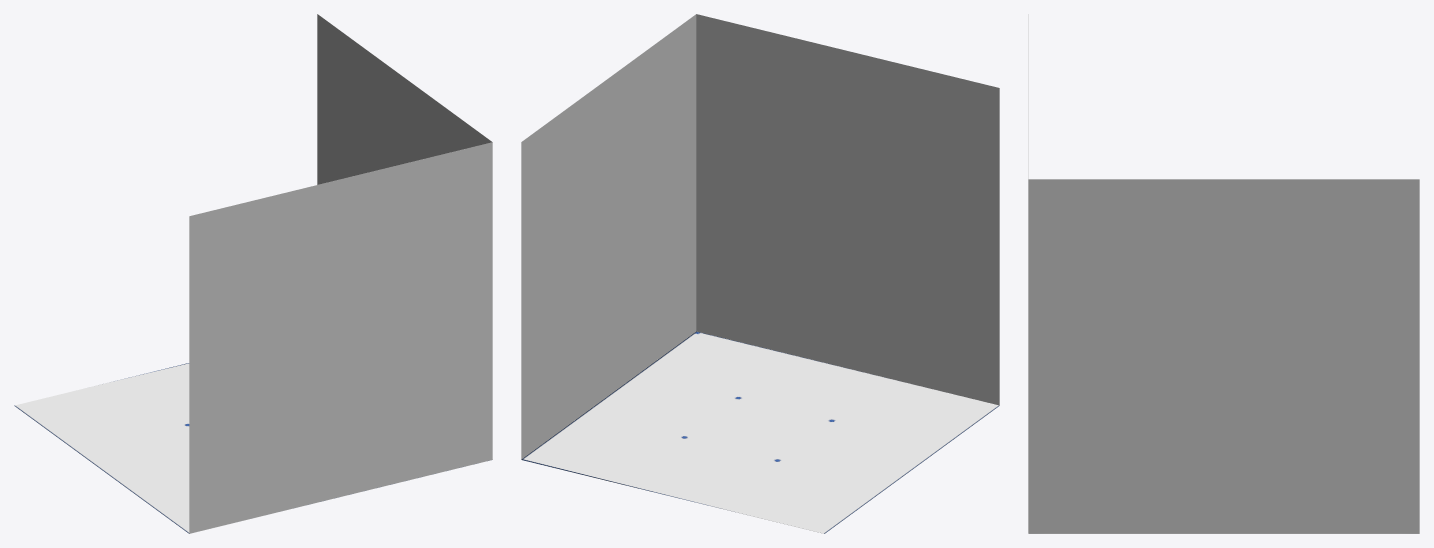
File: rig.dae
3 views of the same model, side by side, from view 1: azimuth 30°, elevation 25°; view 2: azimuth 150°, elevation 25°; view 3: azimuth 270°, elevation 25° (orthographic). The views are drawn at different scales.
Parts seen in each view (by area): view 1: Cube.001, Cube.002, Cube; view 2: Cube.001, Cube, Cube.002; view 3: Cube, Cube.001.
Part boxes in pixels (x1=…): Cube.001: x1=189, y1=142, x2=492, y2=533; Cube.002: x1=14, y1=363, x2=491, y2=533; Cube: x1=317, y1=14, x2=492, y2=184; Cube.001: x1=696, y1=14, x2=999, y2=405; Cube: x1=521, y1=14, x2=696, y2=459; Cube.002: x1=521, y1=331, x2=999, y2=533; Cube: x1=1028, y1=179, x2=1419, y2=533; Cube.001: x1=1028, y1=14, x2=1028, y2=533.
Bounding box in the file's own units: 0.1941 × 0.1941 × 0.1942.
